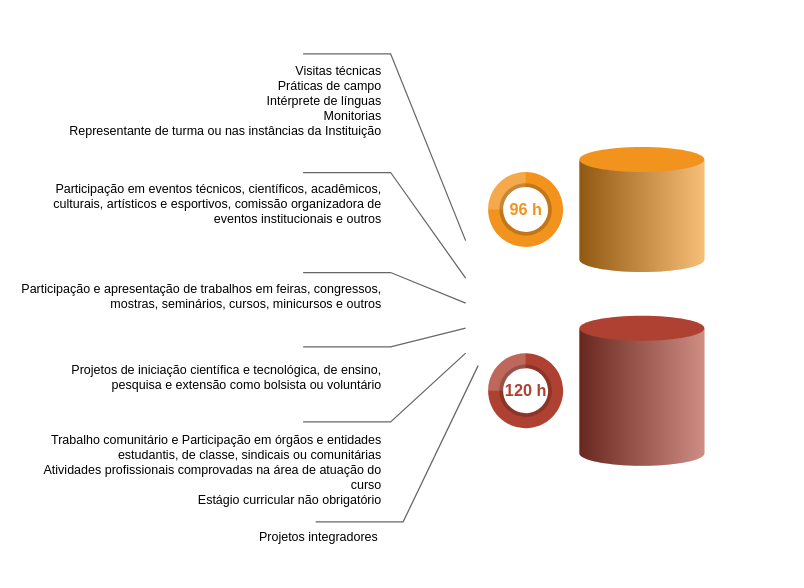
The diagram is 804 pixels wide and 588 high, and some of its shapes have lost their labels. Each missing label, with the box of its shape:
Atividades Complementares: (579, 315, 704, 465)
Prática profissional: (579, 146, 704, 271)
